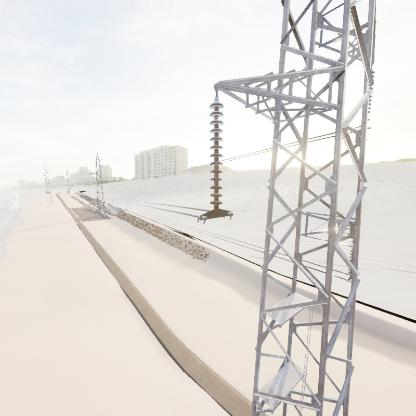insulator: (205, 100, 226, 216)
tower: (85, 154, 115, 218)
